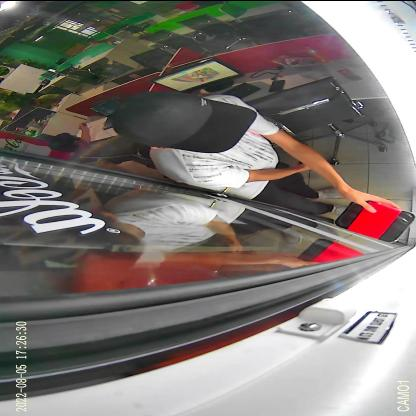red: (333, 199, 416, 242)
